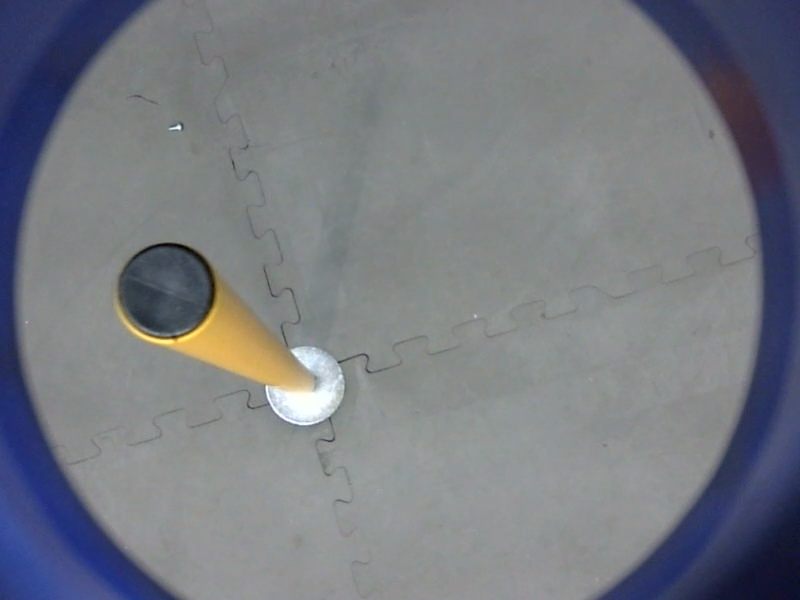tip: (109, 236, 222, 348)
